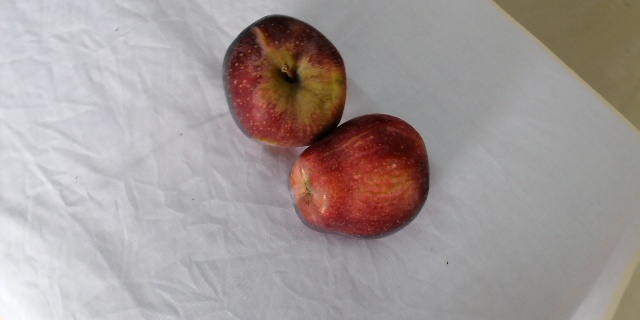apple_kashmir: (289, 113, 441, 241), (220, 14, 348, 150)
